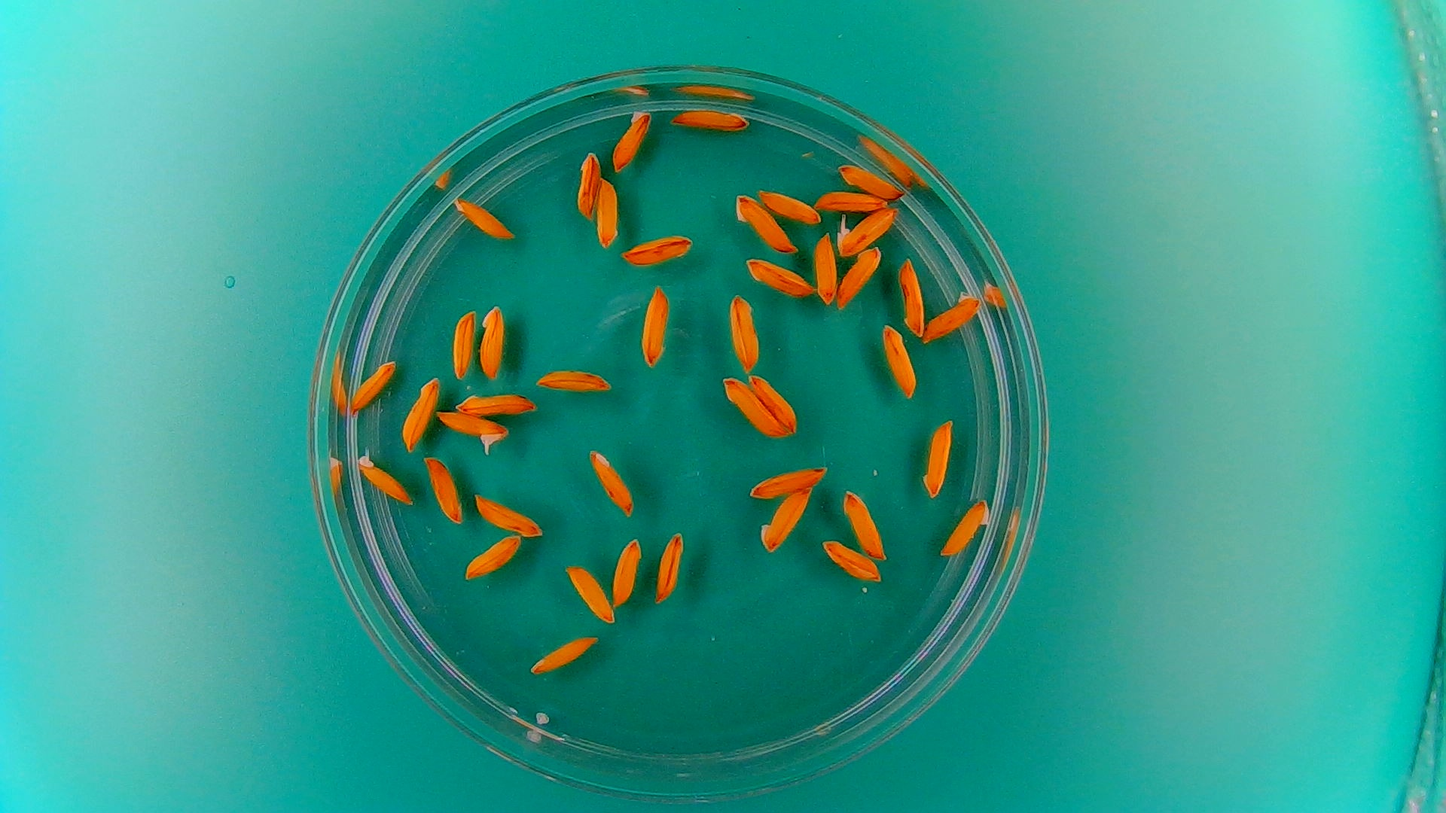no: (732, 190, 796, 254), (757, 486, 815, 556), (523, 633, 609, 678), (840, 486, 889, 562), (586, 445, 635, 518), (471, 490, 545, 538), (562, 561, 615, 626), (938, 495, 992, 558), (398, 372, 441, 451), (923, 288, 982, 344), (460, 531, 524, 582), (450, 193, 516, 242), (747, 462, 831, 500), (422, 452, 465, 526), (835, 245, 883, 310), (920, 415, 956, 500), (743, 256, 814, 299), (880, 321, 918, 400), (638, 282, 672, 370), (749, 371, 798, 432), (819, 537, 883, 583), (726, 291, 762, 372), (609, 104, 652, 171), (349, 356, 398, 414), (476, 304, 511, 384), (652, 528, 687, 604), (453, 387, 540, 417), (621, 231, 695, 266), (532, 363, 615, 394), (896, 254, 926, 339), (837, 162, 905, 199), (611, 534, 645, 608), (756, 187, 822, 225), (670, 103, 752, 132), (449, 305, 478, 379), (593, 172, 620, 248), (573, 147, 601, 220), (812, 230, 837, 306), (813, 187, 888, 212)
yes: (834, 204, 900, 257), (432, 408, 510, 452), (353, 451, 414, 506)
